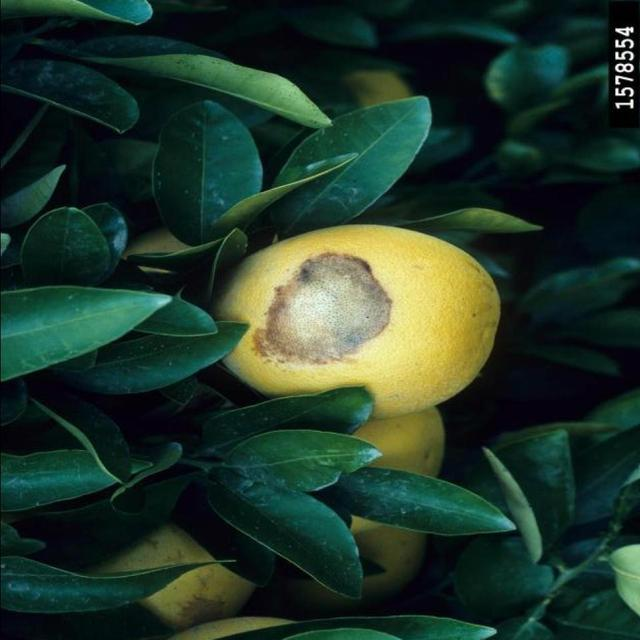Blossom End Rot Fruit: (166, 170, 272, 248)
